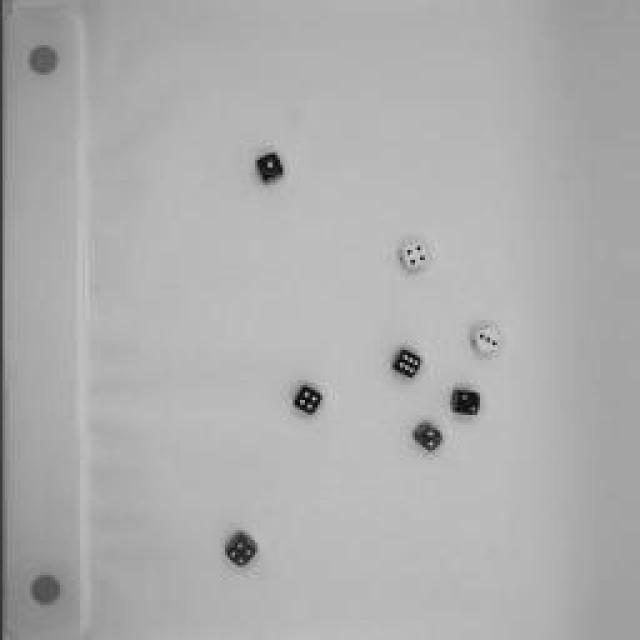dice_1: (252, 149, 286, 186)
dice_2: (411, 420, 444, 455), (448, 386, 482, 419)
dice_3: (465, 320, 503, 358)
dice_4: (221, 529, 261, 571), (290, 382, 325, 418), (395, 240, 430, 272)
dice_6: (390, 344, 422, 381)
